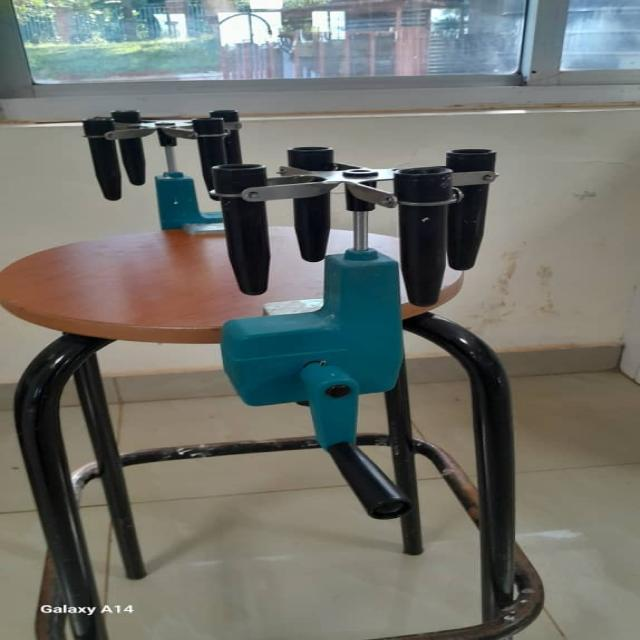Centrifuge: (58, 113, 537, 511)
